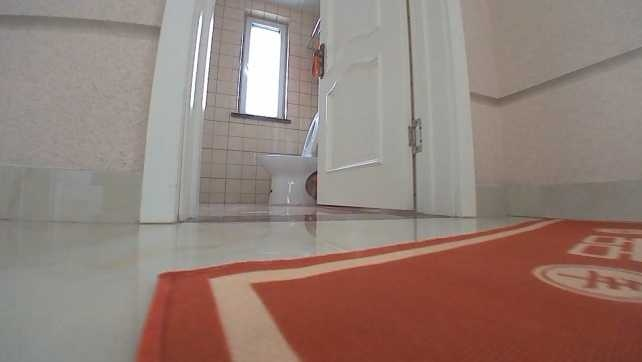blanket: (139, 214, 639, 359)
door_anno: (312, 0, 477, 218)
toilet: (258, 114, 322, 207)
